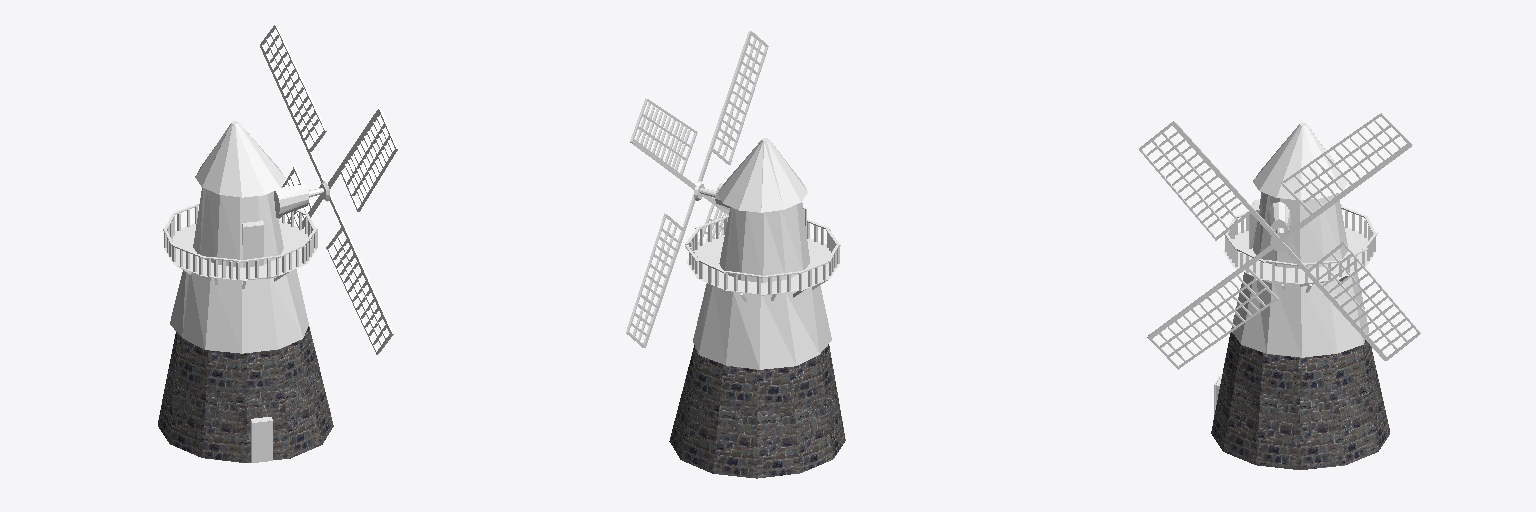
3 renders of one model, left to right at view 1: azimuth 30°, elevation 25°; view 2: azimuth 150°, elevation 25°; view 3: azimuth 270°, elevation 25°, orthographic.
Parts seen in each view (by area): view 1: Model_85, Model_80, Model_11, Model_79, Model_1, Model_164, Model_75, Model_69, Model_81, Model_72; view 2: Model_85, Model_80, Model_11, Model_79, Model_1, Model_72; view 3: Model_85, Model_80, Model_11, Model_79, Model_1, Model_164, Model_72, Model_69.
Boxes of the visible parts, box(x1,y1,x2,y2) form: Model_85: box(158, 326, 333, 462); Model_80: box(170, 269, 308, 353); Model_11: box(193, 187, 283, 267); Model_79: box(195, 121, 285, 197); Model_1: box(164, 220, 316, 279); Model_164: box(260, 45, 392, 332); Model_75: box(251, 420, 272, 462); Model_69: box(274, 184, 308, 217); Model_81: box(243, 225, 263, 267); Model_72: box(298, 110, 379, 228); Model_85: box(669, 344, 845, 478); Model_80: box(693, 283, 831, 369); Model_11: box(719, 202, 809, 282); Model_79: box(717, 138, 807, 212); Model_1: box(686, 235, 838, 295); Model_72: box(643, 32, 751, 345); Model_85: box(1211, 332, 1389, 469); Model_80: box(1231, 272, 1368, 357); Model_11: box(1253, 192, 1347, 268); Model_79: box(1253, 123, 1347, 199); Model_1: box(1223, 226, 1374, 286); Model_164: box(1149, 144, 1410, 338); Model_72: box(1173, 123, 1386, 359); Model_69: box(1267, 202, 1290, 233).
Size of the model in its own units: 1486 by 3314 by 2393.
Materials: 7 (1 with a texture image).